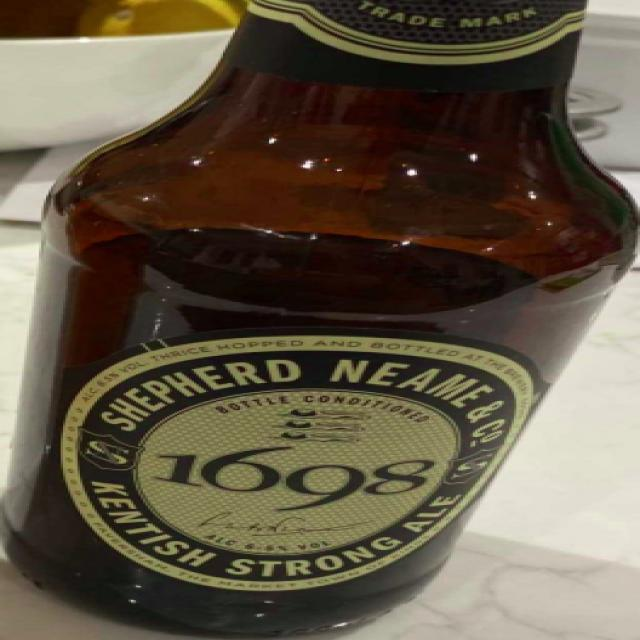Sheperd Neame 1698: (0, 0, 640, 640)
